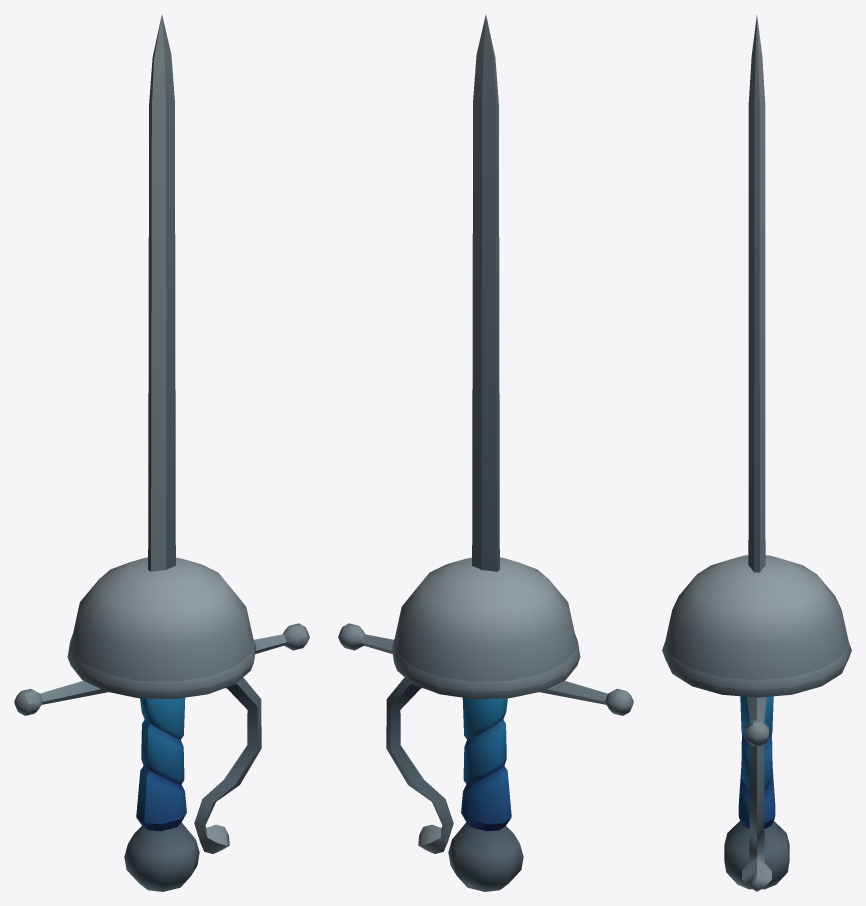
The model's file is XW_sword_D.glb.
The picture shows the model from 3 angles, left to right: view 1: azimuth 30°, elevation 25°; view 2: azimuth 150°, elevation 25°; view 3: azimuth 270°, elevation 25°; orthographic projection.
Visible parts, largest first — view 1: sword_D; view 2: sword_D; view 3: sword_D.
Part boxes in pixels (<box>): sword_D: <box>14,15,309,891</box>; sword_D: <box>338,15,633,891</box>; sword_D: <box>662,15,851,891</box>.
Size of the model in its own units: 0.7149 by 2.04 by 0.4016.
